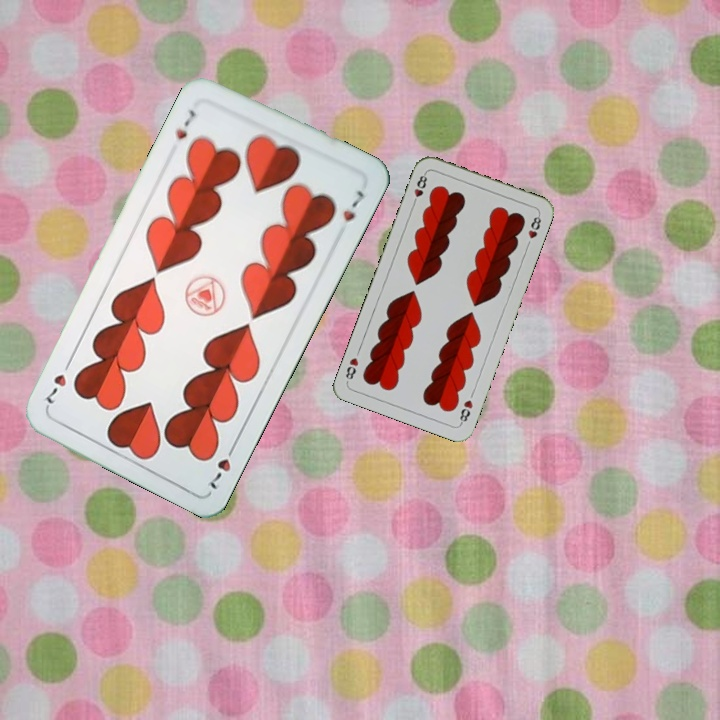H7: (202, 439, 239, 492), (171, 105, 199, 143)
H8: (409, 169, 430, 208), (455, 396, 476, 427)
